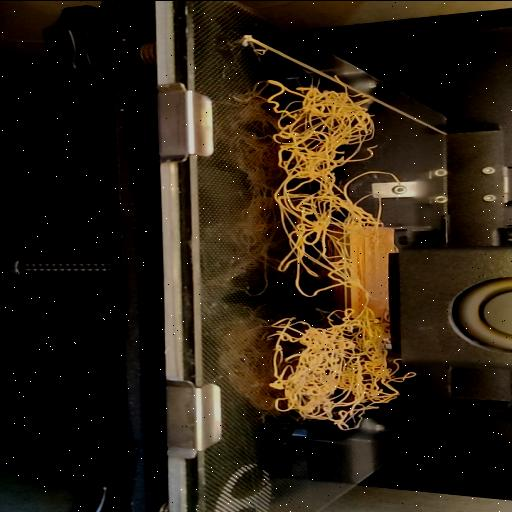spaghetti: (264, 72, 392, 430), (393, 367, 417, 386)
